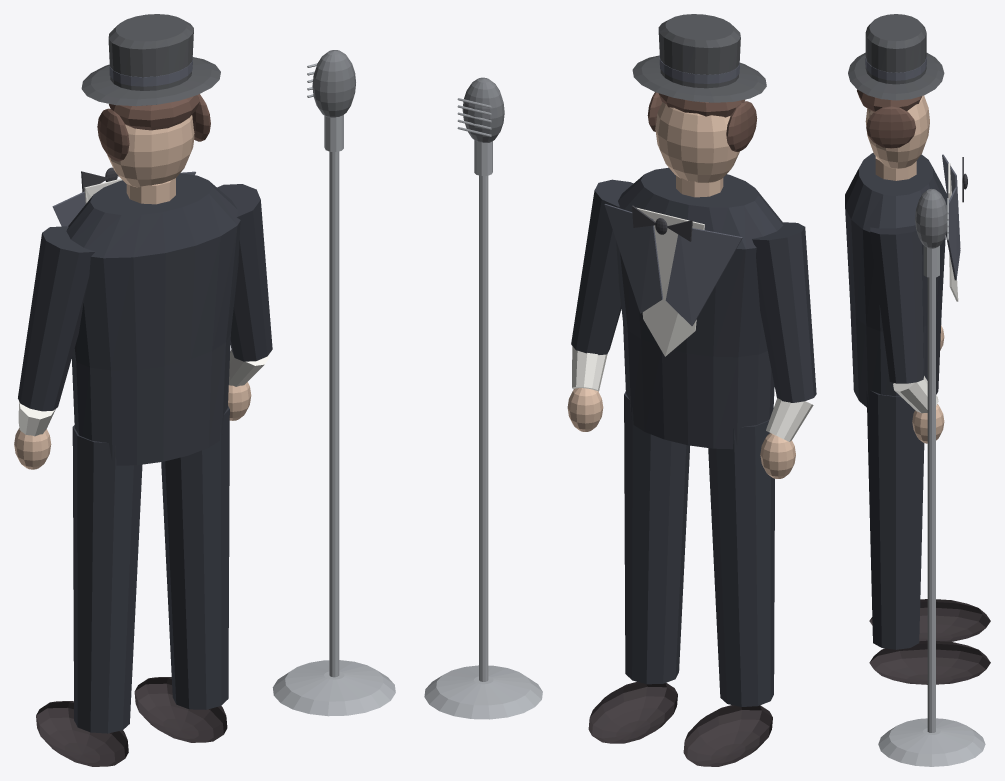
The model's file is male_singer.glb.
3 views of the same model, side by side, from view 1: azimuth 30°, elevation 25°; view 2: azimuth 150°, elevation 25°; view 3: azimuth 270°, elevation 25° (orthographic). The views are drawn at different scales.
Visible parts, largest first — view 1: male_singer; view 2: male_singer; view 3: male_singer.
Boxes of the visible parts, x1,y1,x2,y2 form: male_singer: (14, 14, 395, 766); male_singer: (424, 14, 816, 766); male_singer: (845, 14, 990, 766).
Bounding box in the file's own units: 1.07 × 1.95 × 0.4078.
